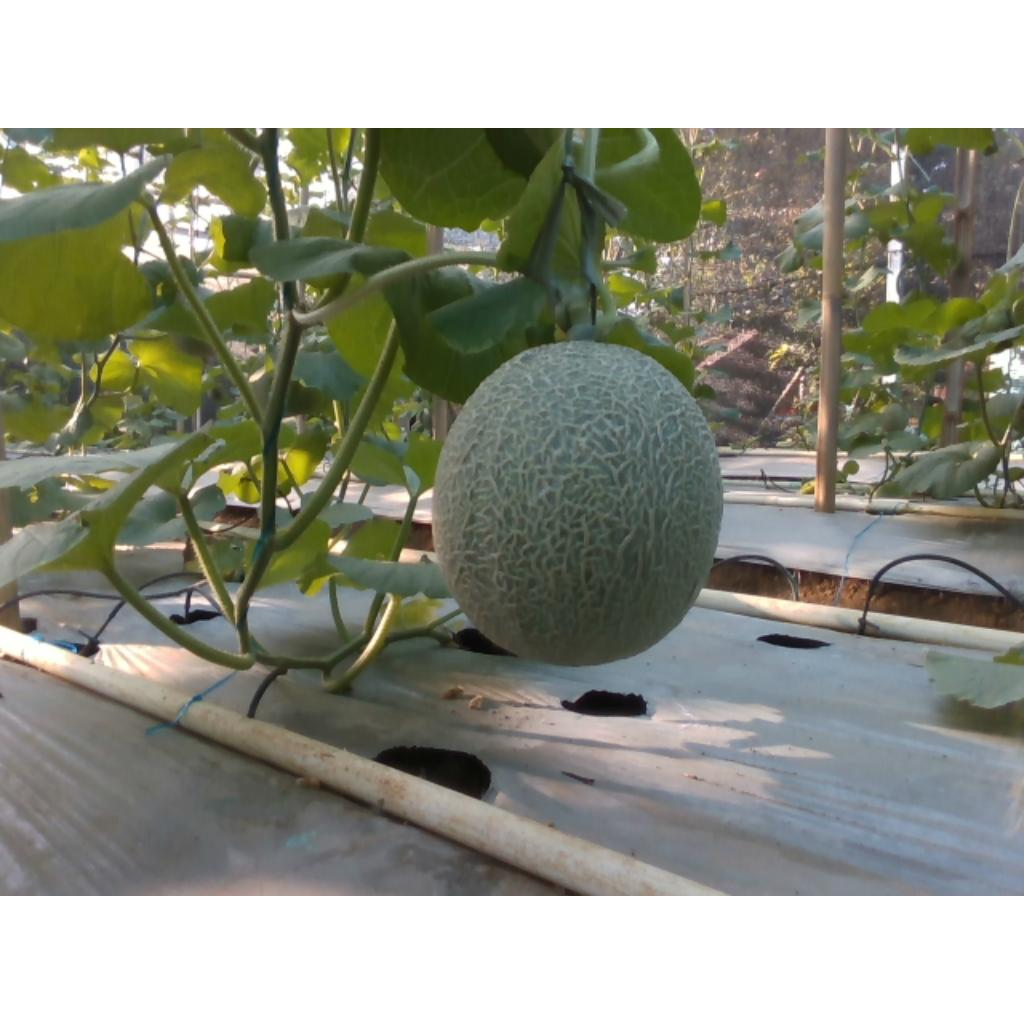melon: (434, 341, 725, 666)
